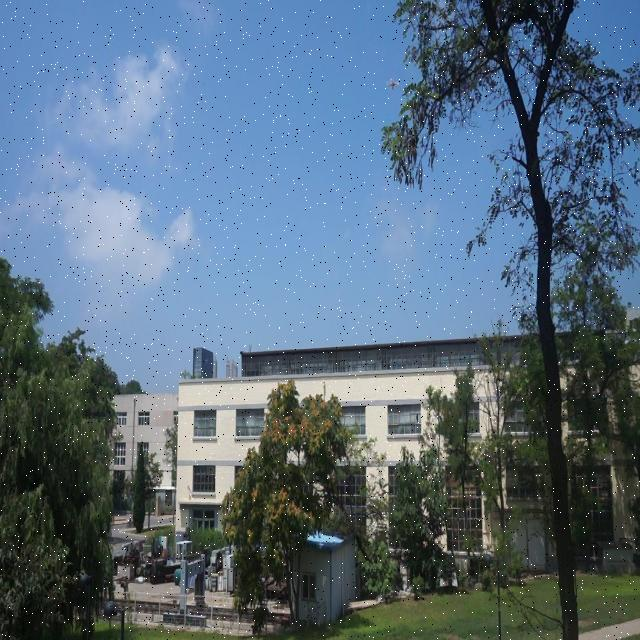UAV: (385, 78, 399, 90)
